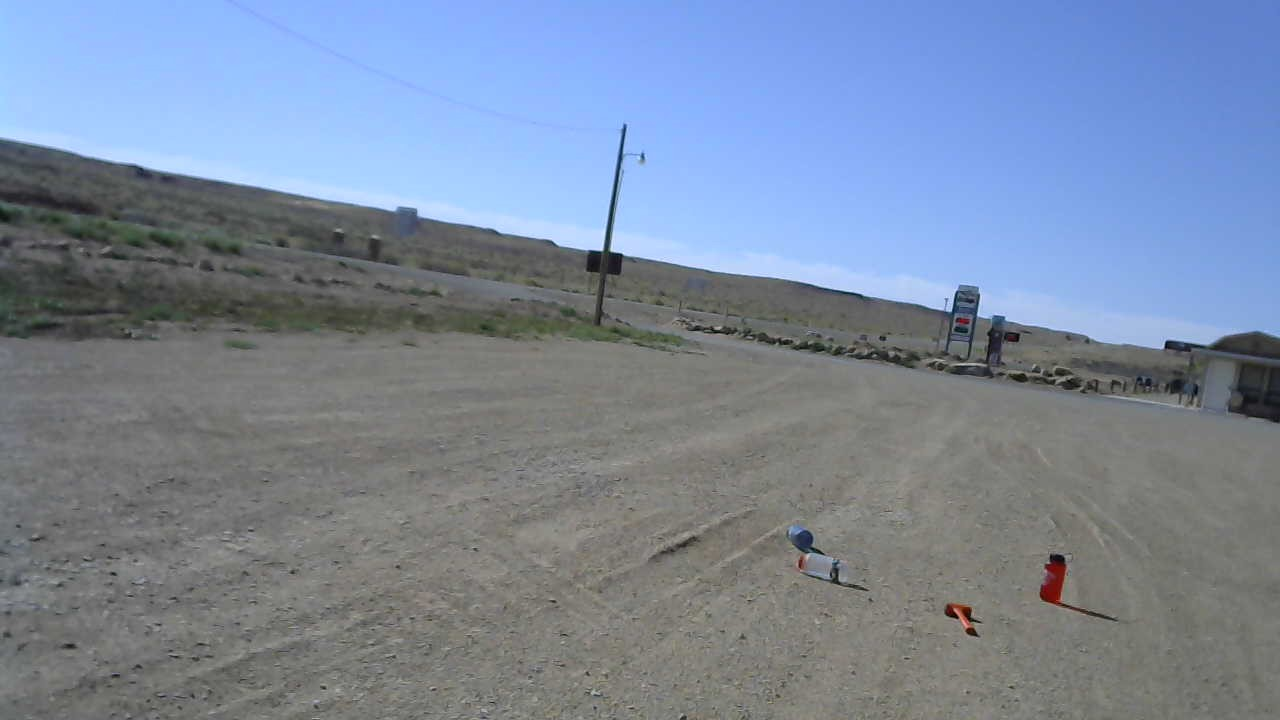bottle: (1039, 549, 1071, 605), (798, 550, 849, 585), (786, 522, 812, 548)
hammer: (943, 599, 977, 638)
